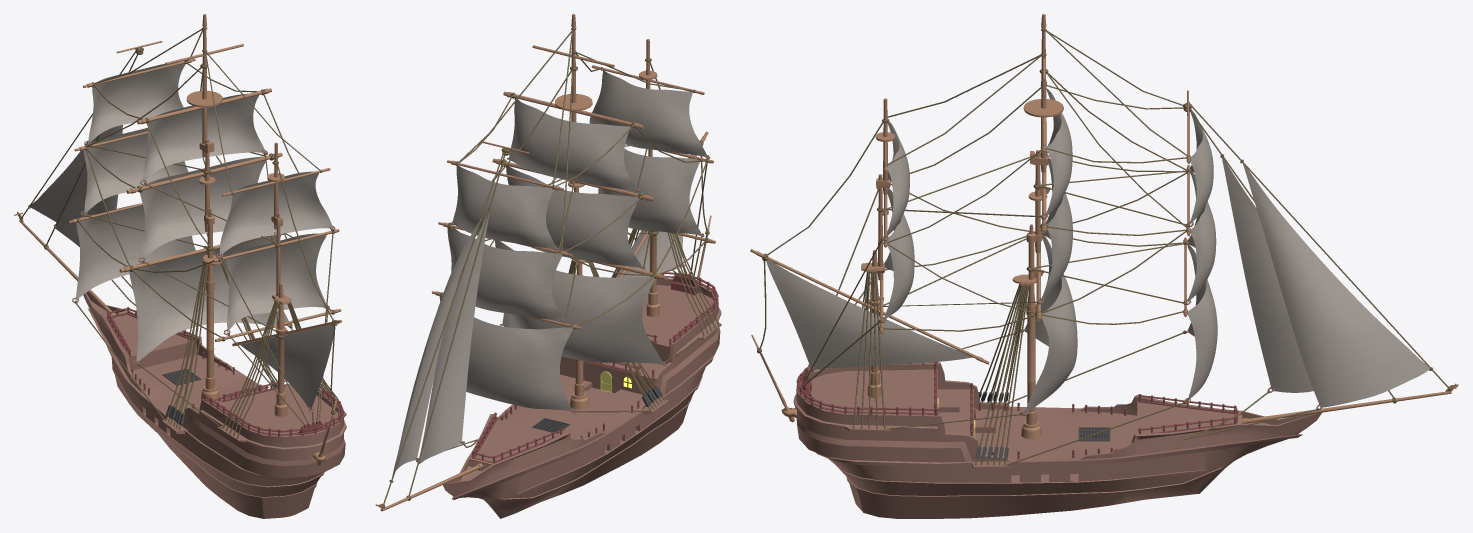
Rendered from Ship.fbx.
The picture shows the model from 3 angles, left to right: view 1: azimuth 30°, elevation 25°; view 2: azimuth 150°, elevation 25°; view 3: azimuth 270°, elevation 25°; orthographic projection. The views are drawn at different scales.
Parts seen in each view (by area): view 1: MainShip; view 2: MainShip; view 3: MainShip.
Boxes of the visible parts, x1,y1,x2,y2 form: MainShip: (14,14,346,518); MainShip: (375,14,721,518); MainShip: (750,14,1458,518).
Bounding box in the file's own units: 15919 × 39003 × 51073.
